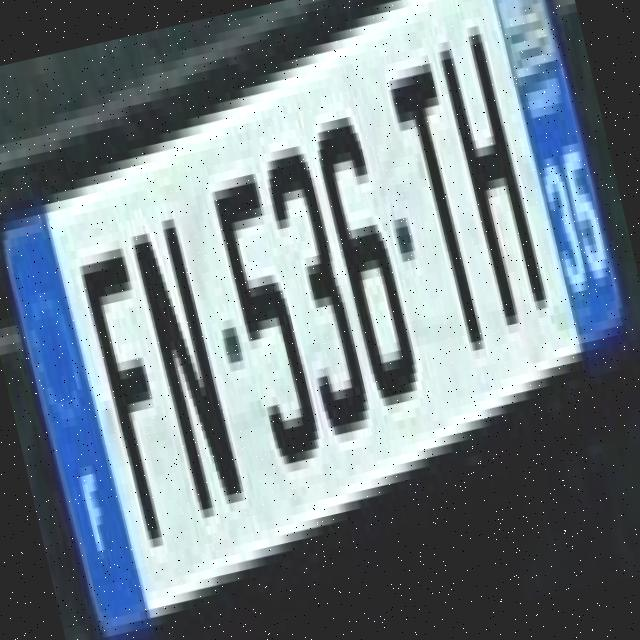EU: (2, 0, 621, 640)
France: (1, 211, 145, 634)
